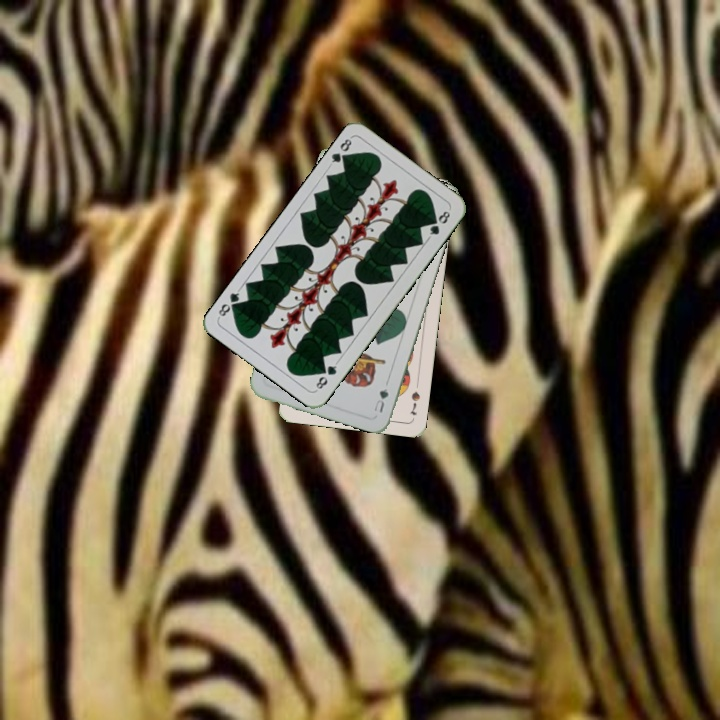G8: (325, 133, 354, 168), (312, 358, 340, 393)
GU: (370, 384, 391, 415)
S7: (407, 387, 422, 418)
